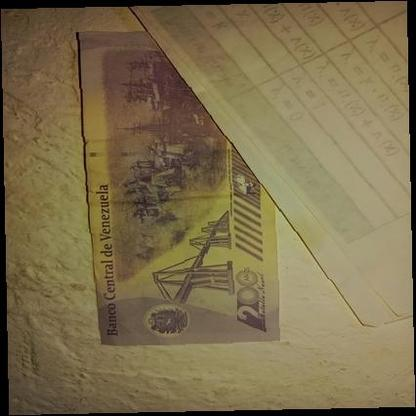two_hundred-back-vef: (77, 30, 280, 348)
